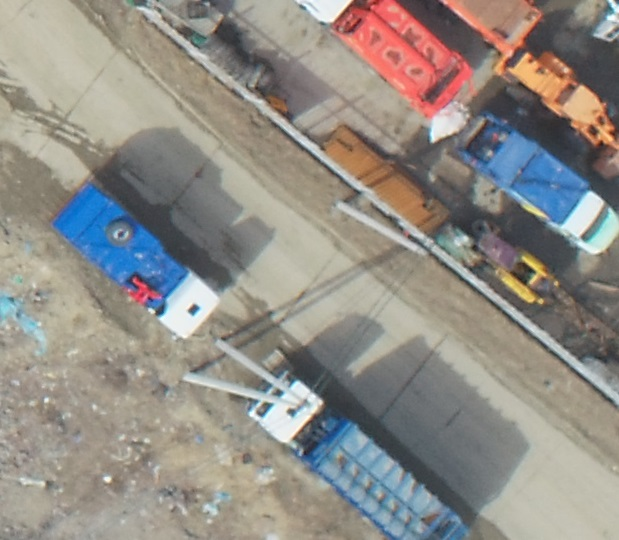opora: (180, 322, 317, 419), (337, 191, 429, 261)
